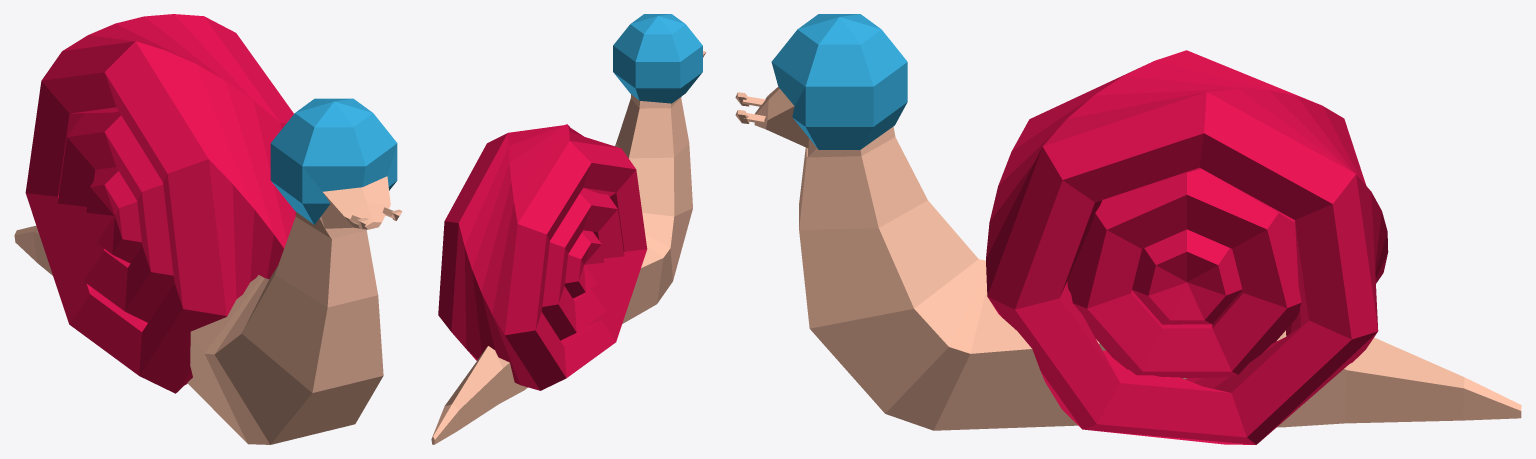
Rendered from FBX_Snail.fbx.
3 renders of one model, left to right at view 1: azimuth 30°, elevation 25°; view 2: azimuth 150°, elevation 25°; view 3: azimuth 270°, elevation 25°, orthographic. The views are drawn at different scales.
Visible parts, largest first — view 1: House, Body, MiddleRing, Helmet, InnerRing; view 2: House, Body, MiddleRing, Helmet, InnerRing; view 3: House, Body, MiddleRing, Helmet, InnerRing.
Boxes of the visible parts, box(x1,y1,x2,y2) form: House: box(25, 14, 295, 393); Body: box(14, 176, 390, 444); MiddleRing: box(58, 111, 174, 322); Helmet: box(270, 98, 397, 224); InnerRing: box(86, 167, 142, 263); House: box(438, 124, 647, 390); Body: box(431, 94, 692, 444); MiddleRing: box(542, 188, 624, 340); Helmet: box(613, 14, 702, 103); InnerRing: box(564, 230, 604, 298); House: box(986, 50, 1388, 444); Body: box(754, 87, 1521, 430); MiddleRing: box(1067, 168, 1301, 378); Helmet: box(771, 14, 907, 149); InnerRing: box(1132, 229, 1242, 324).
Bounding box in the file's own units: 1.95 × 5.15 × 8.78.
